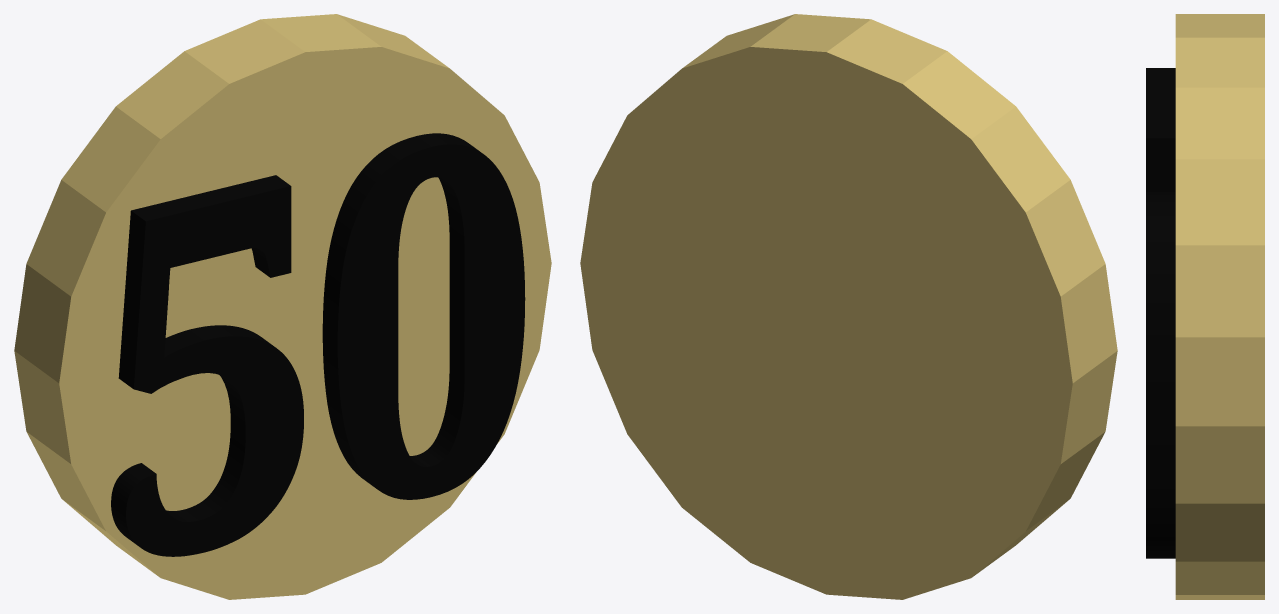
File: coin.glb
The picture shows the model from 3 angles, left to right: view 1: azimuth 30°, elevation 25°; view 2: azimuth 150°, elevation 25°; view 3: azimuth 270°, elevation 25°; orthographic projection.
Visible parts, largest first — view 1: Mesh_Mesh_head_geo.001_lambert2SG.001; view 2: Mesh_Mesh_head_geo.001_lambert2SG.001; view 3: Mesh_Mesh_head_geo.001_lambert2SG.001.
Part boxes in pixels (bbox=[...]): Mesh_Mesh_head_geo.001_lambert2SG.001: bbox=[14, 14, 551, 599]; Mesh_Mesh_head_geo.001_lambert2SG.001: bbox=[580, 14, 1117, 599]; Mesh_Mesh_head_geo.001_lambert2SG.001: bbox=[1146, 14, 1264, 599].
Bounding box in the file's own units: 19 × 20 × 4.
